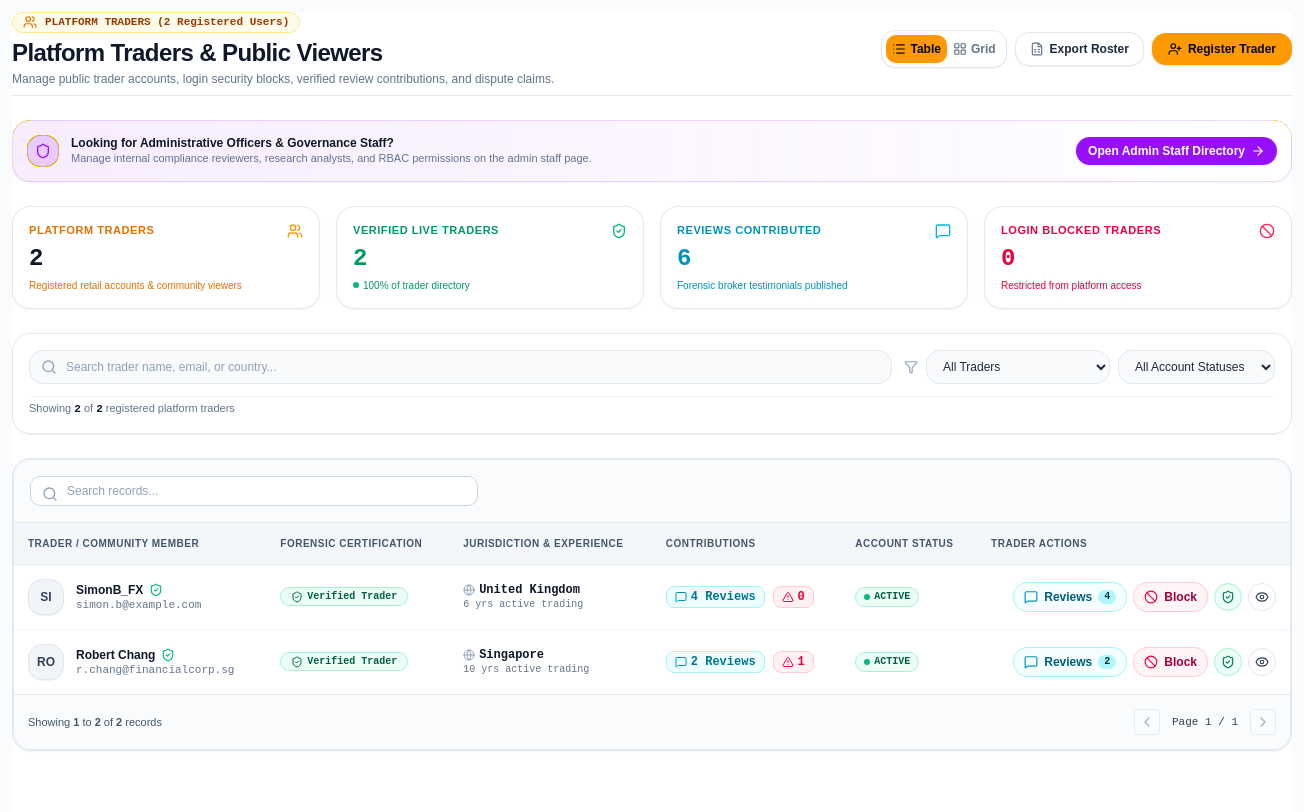
Test case: Platform Traders & Public Viewers Page (/users/traders, /traders) › toggles block login access for a trader user
Note: Find block buttons and click block on the first trader
Click the button "Block" in the row of "SimonB_FX": (1171, 597) [1133, 582, 1208, 612]
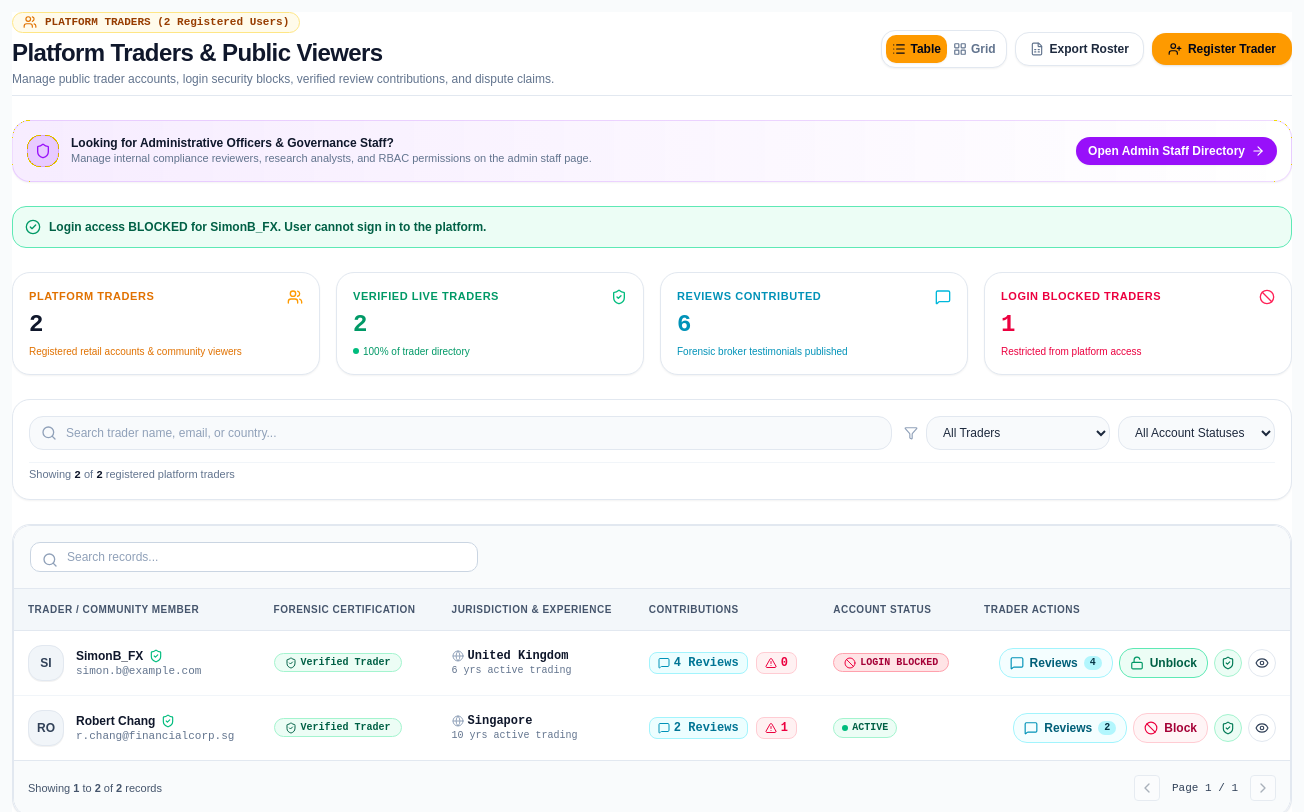
Check: the text "Login access BLOCKED" is shown, box [49, 220, 486, 234]
